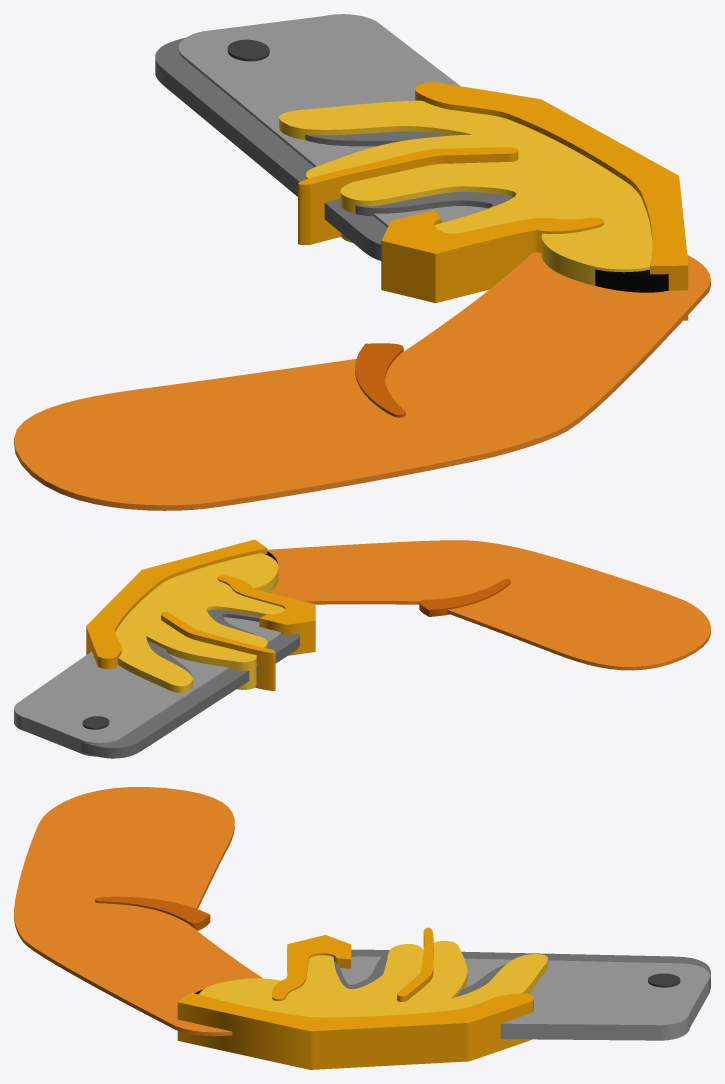
File: emoji_u1f933.glb
3 views of the same model, one above another, from view 1: azimuth 30°, elevation 25°; view 2: azimuth 150°, elevation 25°; view 3: azimuth 270°, elevation 25° (orthographic). The views are drawn at different scales.
Visible parts, largest first — view 1: emoji_u1f933; view 2: emoji_u1f933; view 3: emoji_u1f933.
Boxes of the visible parts, x1,y1,x2,y2 form: emoji_u1f933: [14, 14, 710, 510]; emoji_u1f933: [14, 539, 710, 758]; emoji_u1f933: [14, 787, 710, 1069].
Bounding box in the file's own units: 0.0291 × 0.0022 × 0.0327.
